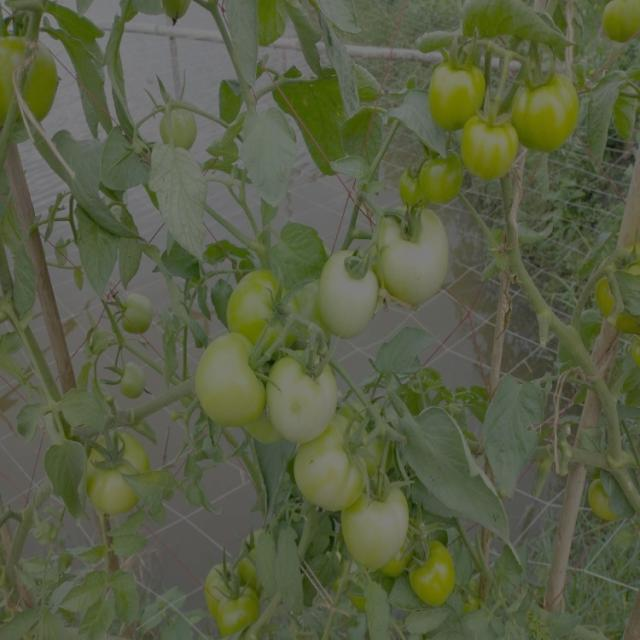tomato: (373, 205, 453, 304), (190, 336, 269, 430), (268, 344, 342, 436), (223, 260, 297, 347), (341, 484, 415, 570), (316, 249, 382, 344), (514, 66, 585, 153), (289, 431, 372, 505), (85, 431, 150, 517), (5, 32, 59, 131), (421, 42, 484, 120), (460, 112, 524, 184), (407, 542, 461, 603), (218, 586, 268, 640), (158, 96, 203, 155), (586, 472, 634, 527), (422, 149, 468, 206), (111, 285, 159, 334), (111, 353, 156, 402), (237, 524, 274, 578), (596, 1, 640, 43), (201, 556, 237, 599), (593, 272, 627, 317), (396, 164, 424, 204)
